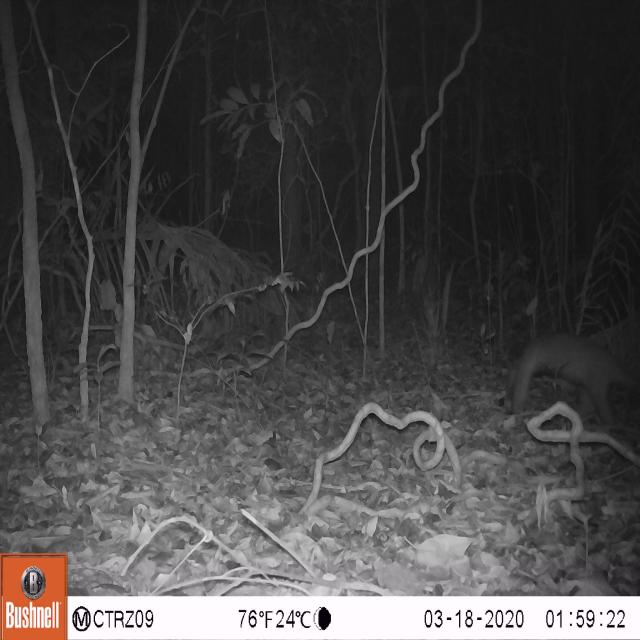Southern Tamandua: (497, 320, 640, 440)
